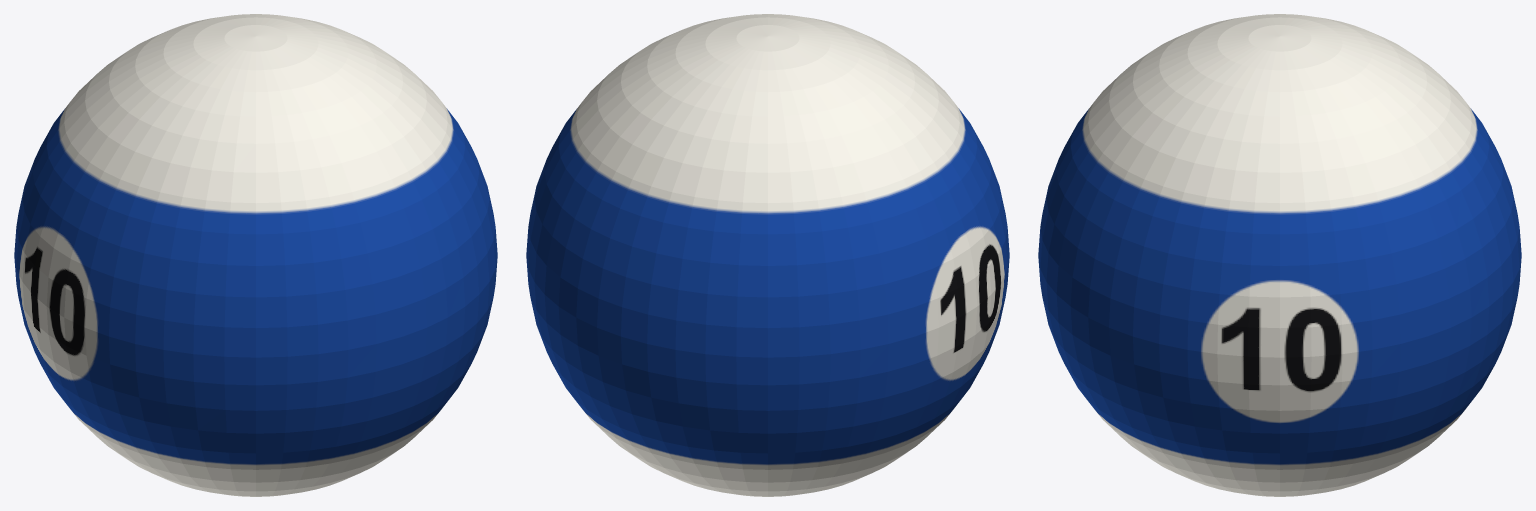
The model's file is ball_10.obj.
3 renders of one model, left to right at view 1: azimuth 30°, elevation 25°; view 2: azimuth 150°, elevation 25°; view 3: azimuth 270°, elevation 25°, orthographic.
Bounding box in the file's own units: 0.0571 × 0.0571 × 0.0571.
1 material, 1 textured.
